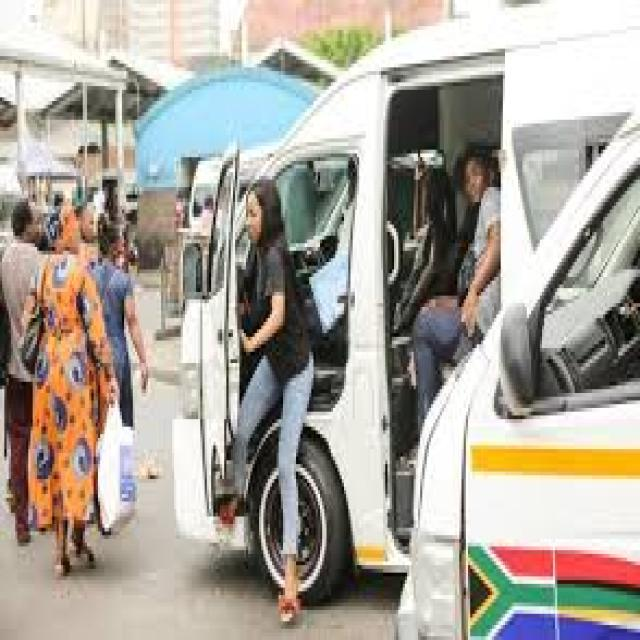MiniBus taxi: (172, 4, 640, 602), (389, 104, 640, 636)
Pedestrians: (230, 180, 316, 621)
